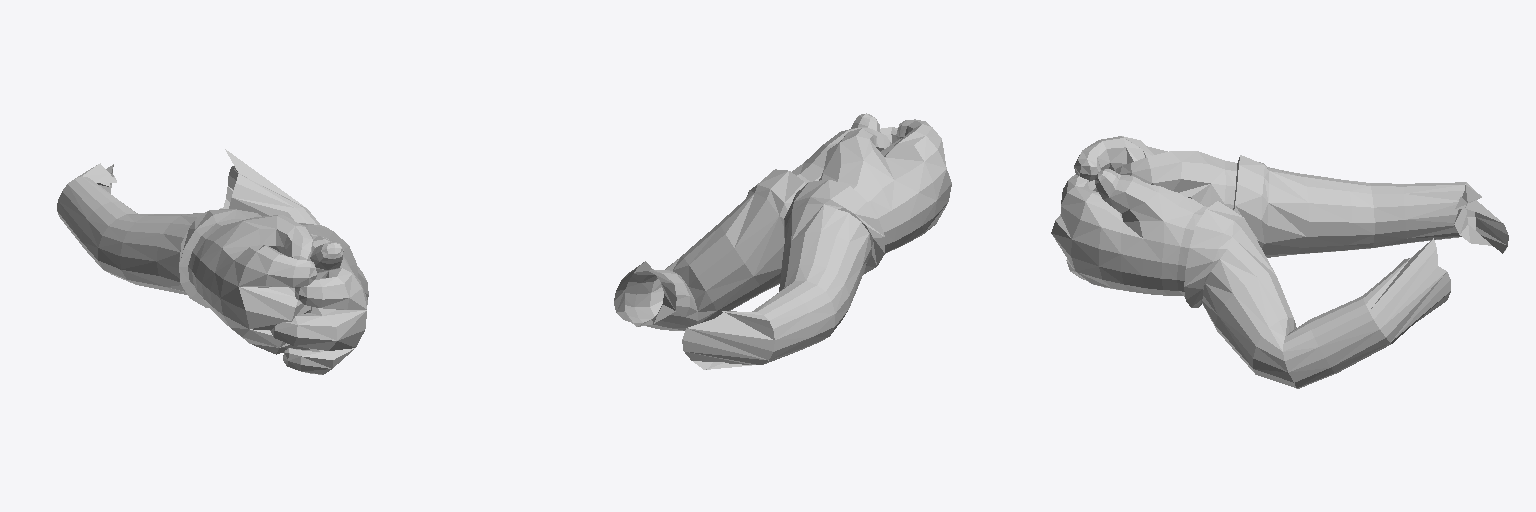
Rendered from Player_Arms.obj.
3 renders of one model, left to right at view 1: azimuth 30°, elevation 25°; view 2: azimuth 150°, elevation 25°; view 3: azimuth 270°, elevation 25°, orthographic.
Visible parts, largest first — view 1: Object002; view 2: Object002; view 3: Object002.
Boxes of the visible parts, x1,y1,x2,y2 form: Object002: [57, 149, 368, 374]; Object002: [614, 113, 951, 369]; Object002: [1051, 136, 1508, 388].
Size of the model in its own units: 0.6146 by 0.461 by 1.08.